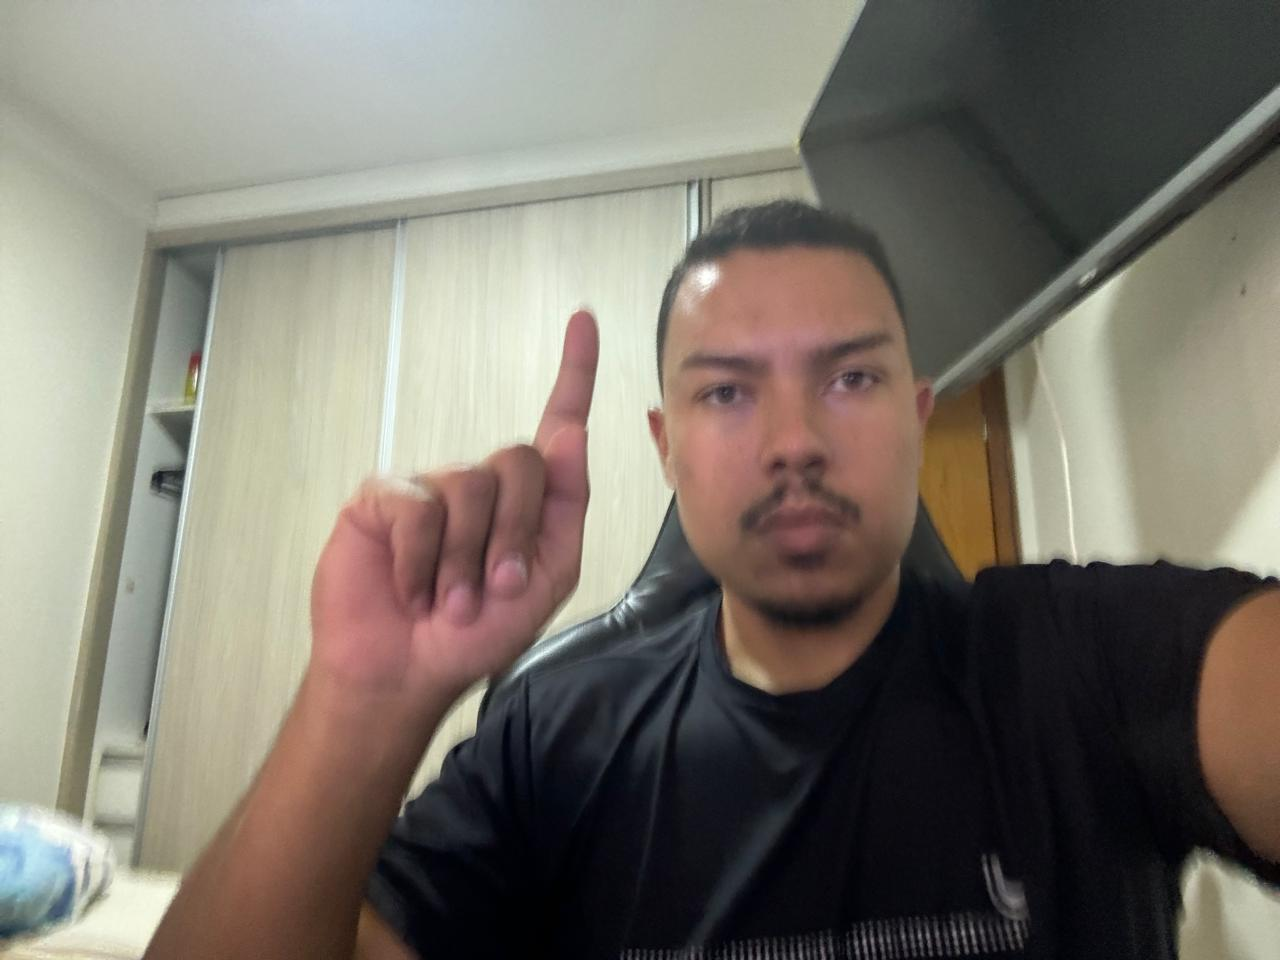g: (304, 304, 610, 706)
